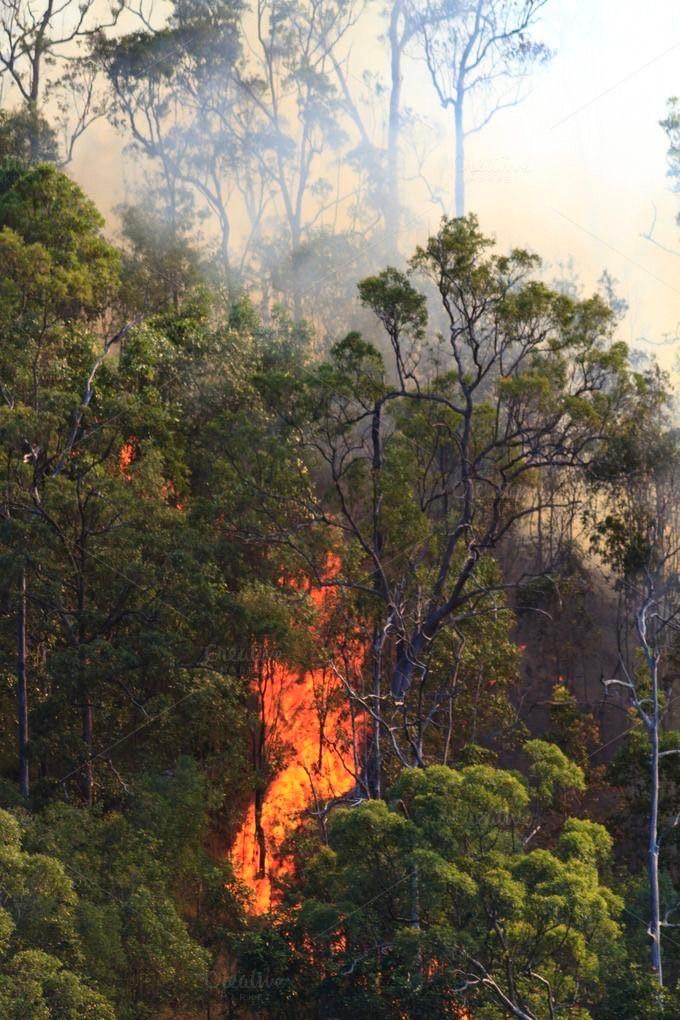fire: (200, 586, 394, 921)
